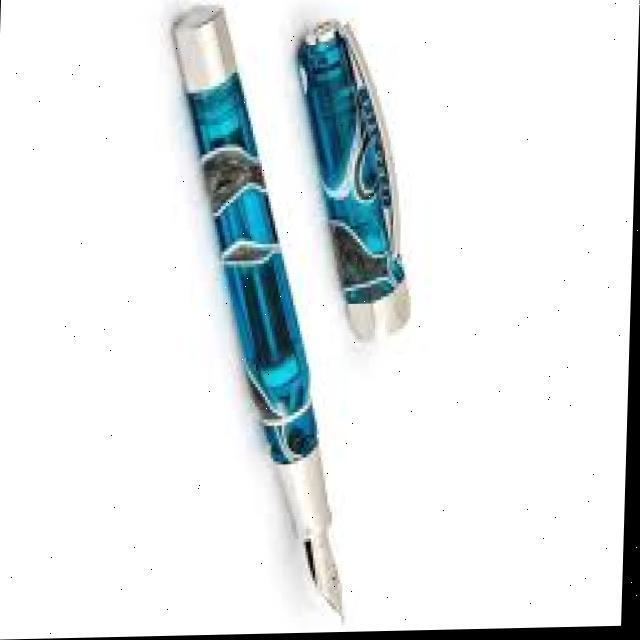Pen - Non Recyclable: (156, 0, 367, 628), (290, 16, 424, 346)
